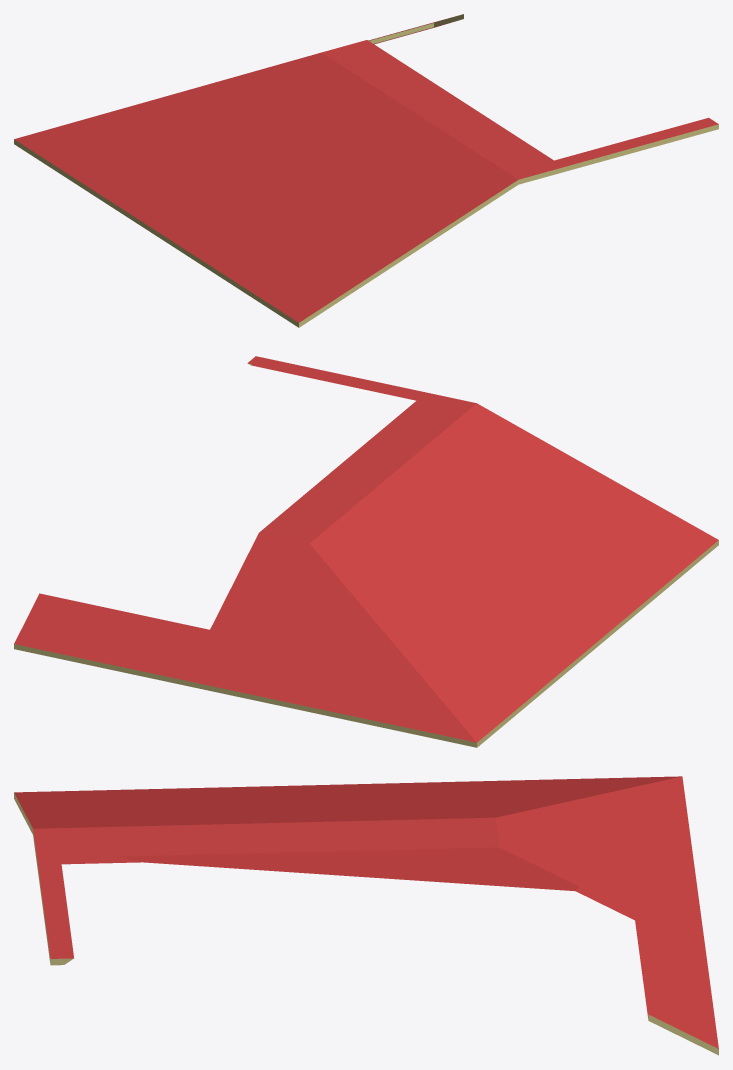
3 renders of one model, top to bottom at view 1: azimuth 30°, elevation 25°; view 2: azimuth 150°, elevation 25°; view 3: azimuth 270°, elevation 25°, orthographic. The views are drawn at different scales.
Size of the model in its own units: 9.68 by 9.98 by 1.76.
